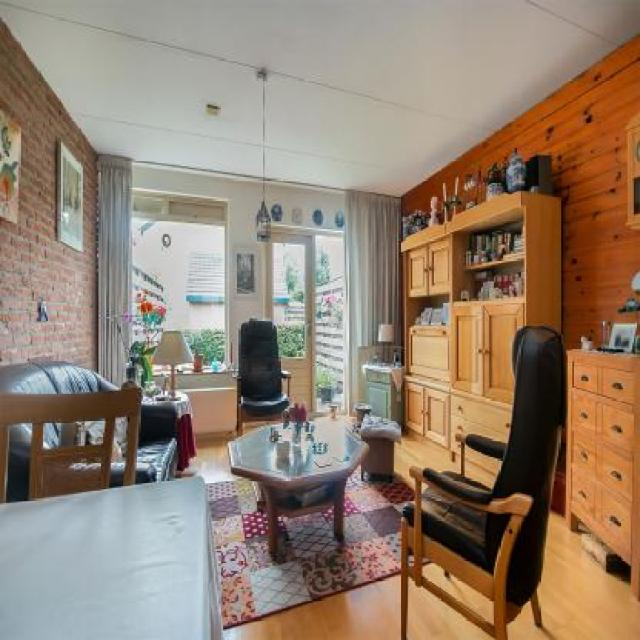floor: (184, 433, 457, 640), (540, 514, 640, 640), (413, 586, 489, 635), (515, 605, 539, 640)
